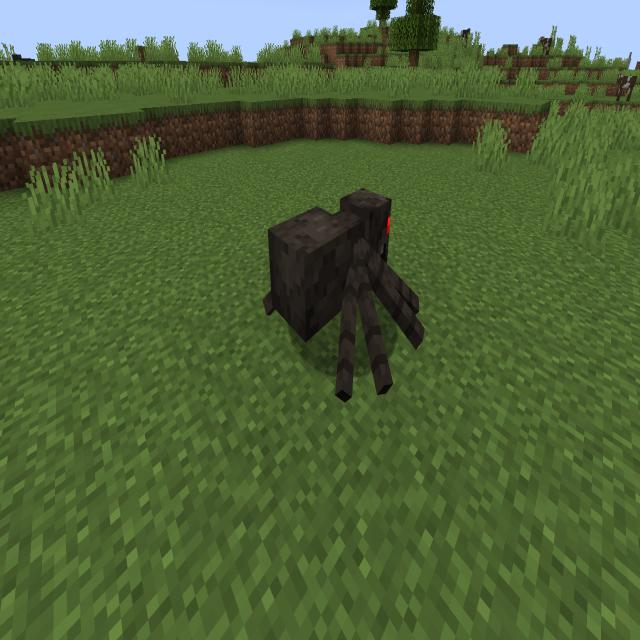Spider: (258, 166, 436, 430)
